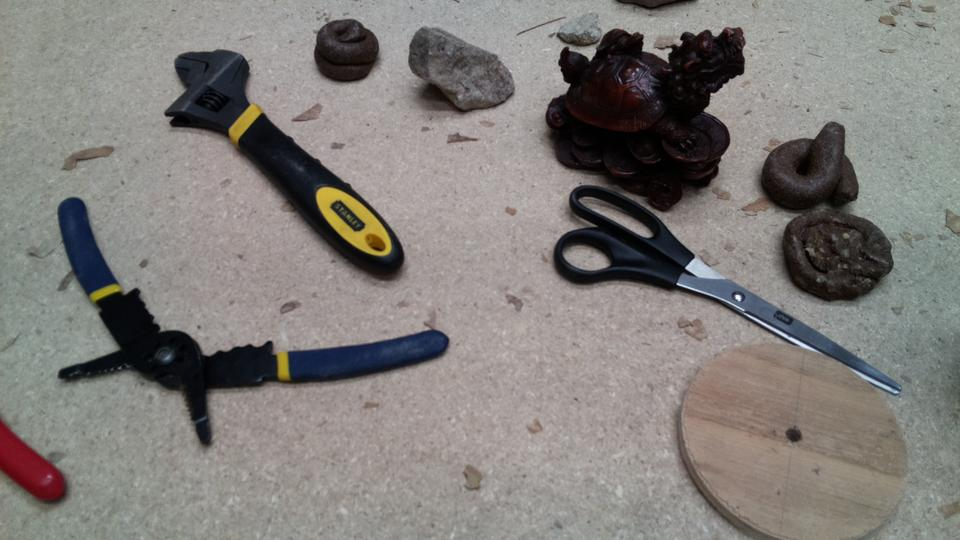poop: (781, 202, 897, 301), (759, 120, 863, 214), (311, 17, 382, 85)
